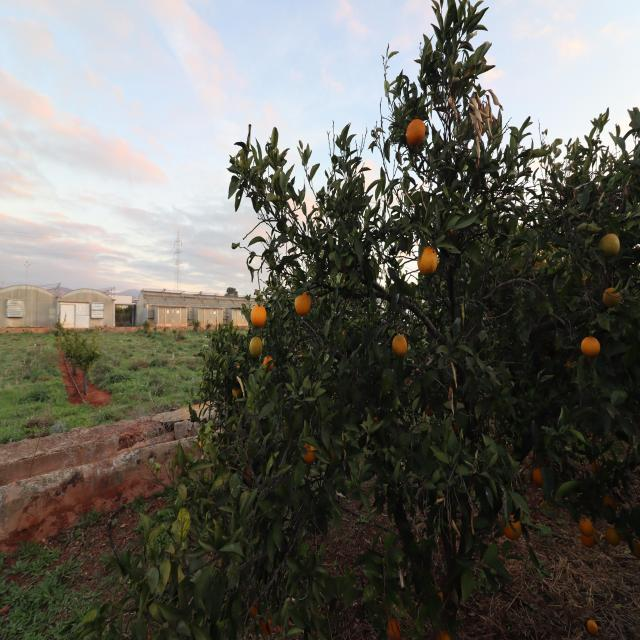Jeruk Sudah Matang: (420, 246, 440, 274), (408, 120, 428, 145), (601, 286, 624, 306), (601, 233, 622, 254), (250, 303, 270, 325), (293, 293, 312, 315), (504, 516, 520, 540), (582, 337, 602, 356), (394, 336, 411, 356), (388, 620, 402, 639), (533, 256, 551, 270), (606, 524, 620, 540), (530, 468, 544, 483), (580, 518, 595, 532), (249, 338, 262, 354), (604, 494, 618, 507), (588, 620, 600, 634), (303, 448, 315, 462), (262, 356, 274, 370), (438, 630, 451, 640), (252, 604, 260, 615)
